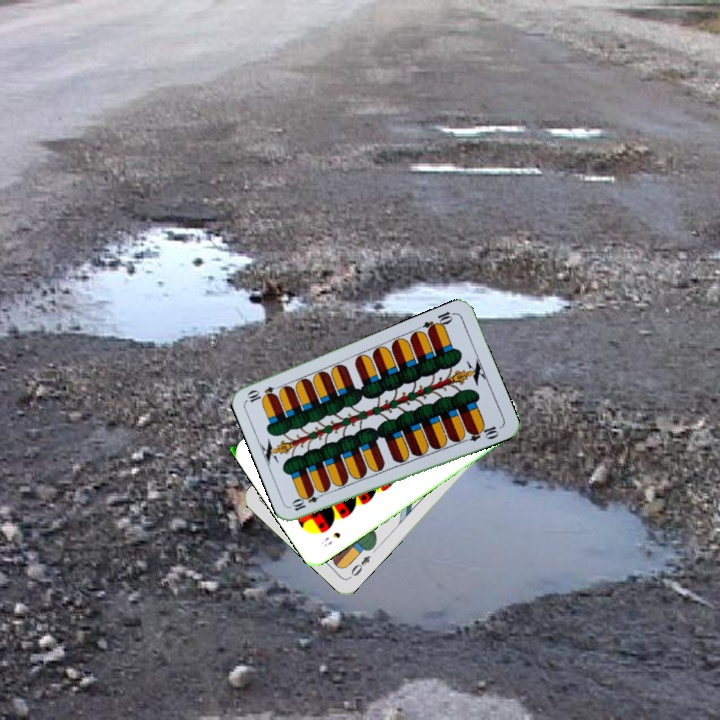E10: (419, 307, 458, 336), (288, 488, 328, 513)
EO: (345, 551, 373, 581)
S8: (317, 528, 343, 549)
